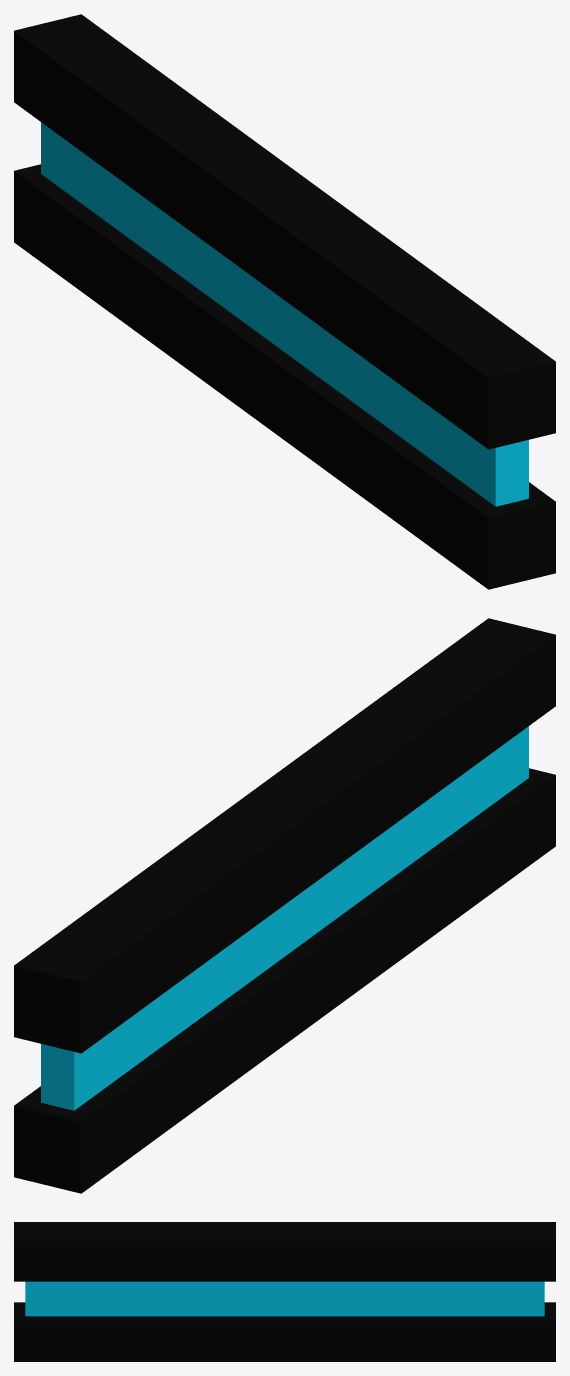
The model's file is Pinball machine wall.FBX.
The picture shows the model from 3 angles, top to bottom: view 1: azimuth 30°, elevation 25°; view 2: azimuth 150°, elevation 25°; view 3: azimuth 270°, elevation 25°; orthographic projection. The views are drawn at different scales.
Parts seen in each view (by area): view 1: Box001; view 2: Box001; view 3: Box001.
Boxes of the visible parts, box(x1,y1,x2,y2) form: Box001: box(14, 14, 555, 589); Box001: box(14, 618, 555, 1193); Box001: box(14, 1222, 555, 1361).
Size of the model in its own units: 10 by 30 by 122.
